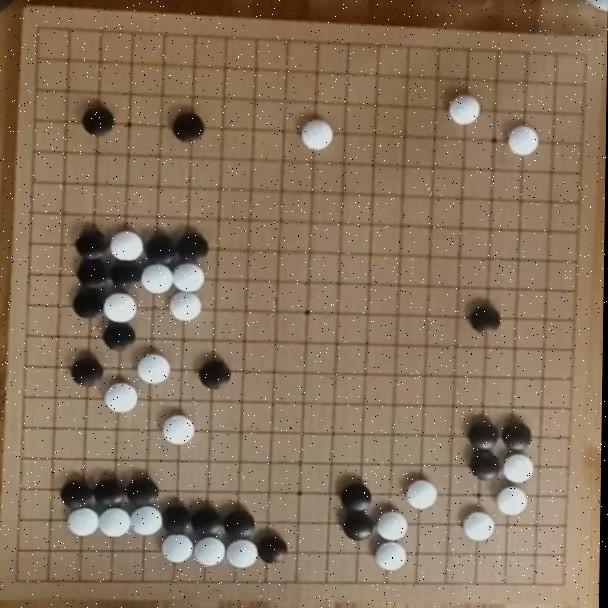corners: (547, 563, 583, 595), (2, 562, 38, 593), (24, 14, 56, 44), (570, 44, 597, 74)
